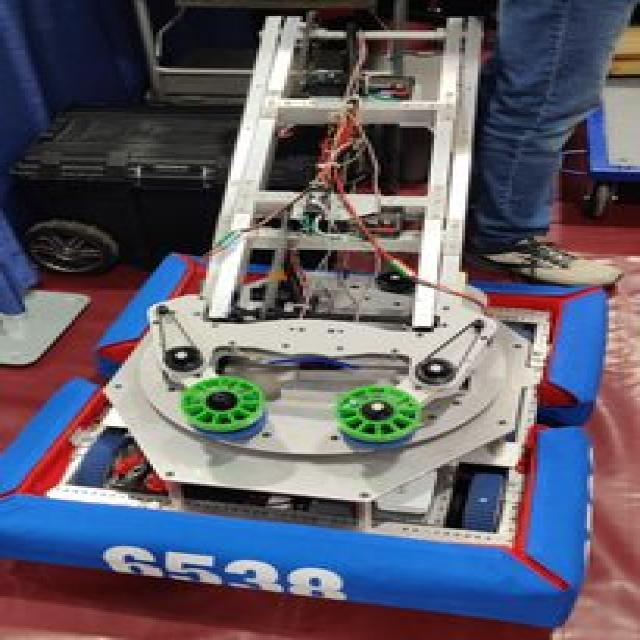robot: (0, 0, 624, 620)
